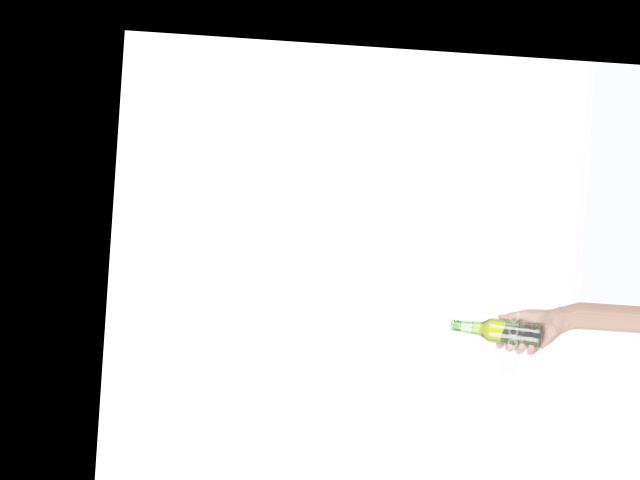beer: (449, 314, 543, 345)
